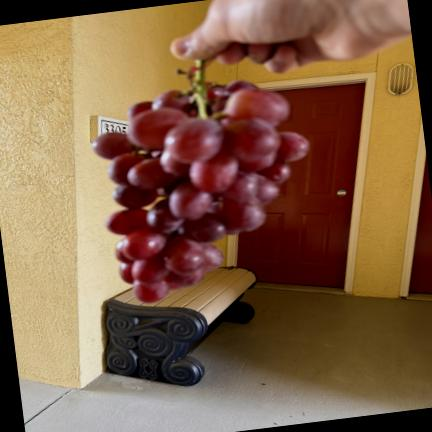grape_cluster: (91, 60, 308, 302)
